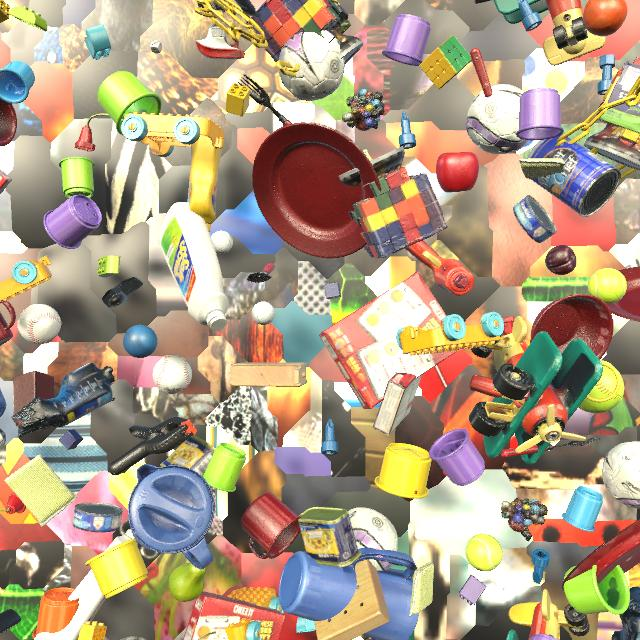ycb_002_master_chef_can: (527, 133, 621, 217)
ycb_003_cracker_box: (319, 272, 458, 409), (183, 591, 285, 640)
ycb_005_tomato_soup_can: (120, 636, 147, 640)
ycb_006_mustard_bottle: (187, 135, 223, 232)
ycb_007_tuna_fish_can: (513, 195, 557, 243), (72, 502, 123, 532)
ycb_008_pudding_box: (373, 373, 422, 436), (474, 0, 491, 4)
ycb_009_gelatin_box: (0, 170, 12, 194)
ycb_010_potted_meat_can: (298, 507, 361, 567), (160, 435, 215, 475)
ycb_013_apple: (436, 152, 479, 193)
ycb_016_pear: (168, 563, 206, 602)
ycb_017_orange: (583, 0, 628, 36)
ycb_018_plum: (545, 245, 577, 275)
